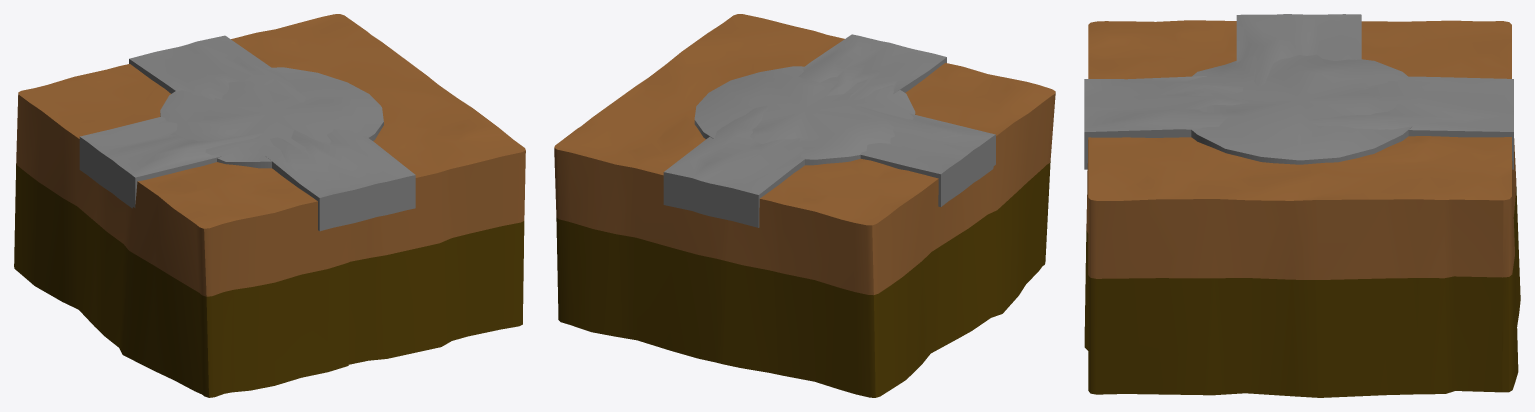
File: roadT.fbx
3 views of the same model, side by side, from view 1: azimuth 30°, elevation 25°; view 2: azimuth 150°, elevation 25°; view 3: azimuth 270°, elevation 25° (orthographic). The views are drawn at different scales.
Parts seen in each view (by area): view 1: ground1, pPlane7, pCylinder3, pPlane8; view 2: ground1, pPlane7, pCylinder3, pPlane8; view 3: ground1, pCylinder3, pPlane7, pPlane8.
Boxes of the visible parts, x1,y1,x2,y2 form: ground1: [14, 14, 525, 397]; pPlane7: [129, 35, 415, 231]; pCylinder3: [160, 67, 383, 168]; pPlane8: [79, 116, 262, 208]; ground1: [554, 14, 1055, 397]; pPlane7: [663, 34, 946, 227]; pCylinder3: [694, 66, 915, 165]; pPlane8: [850, 105, 995, 206]; ground1: [1084, 20, 1520, 397]; pCylinder3: [1185, 54, 1420, 164]; pPlane7: [1084, 76, 1513, 169]; pPlane8: [1236, 14, 1361, 86].
Bounding box in the file's own units: 20.78 × 10.71 × 20.34.
